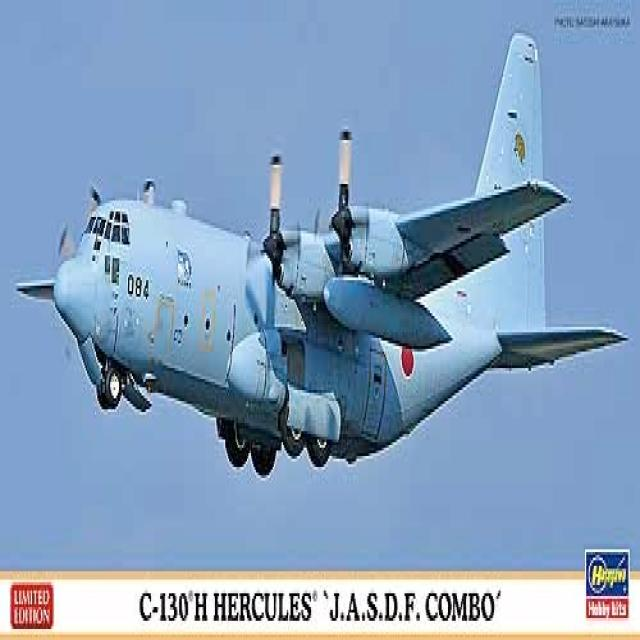C130: (0, 24, 638, 525)
